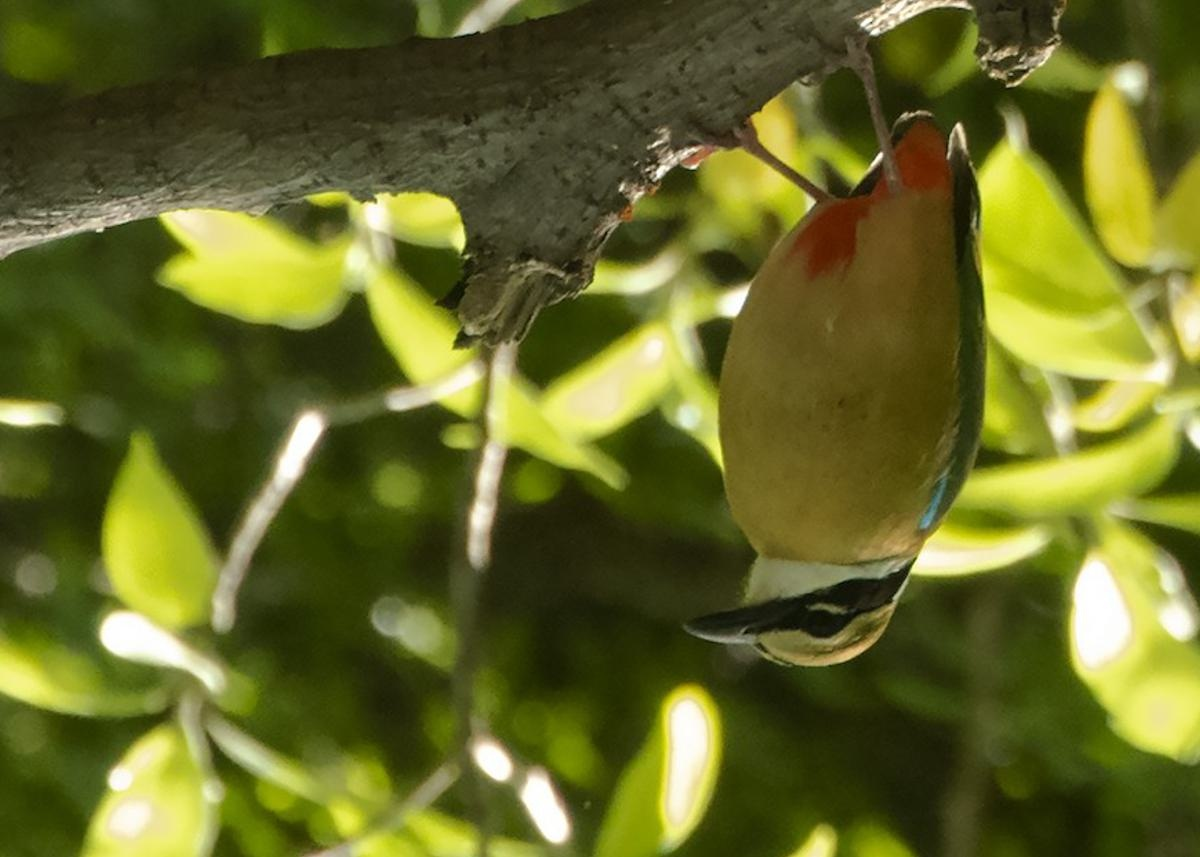pitta: (638, 46, 1079, 676)
